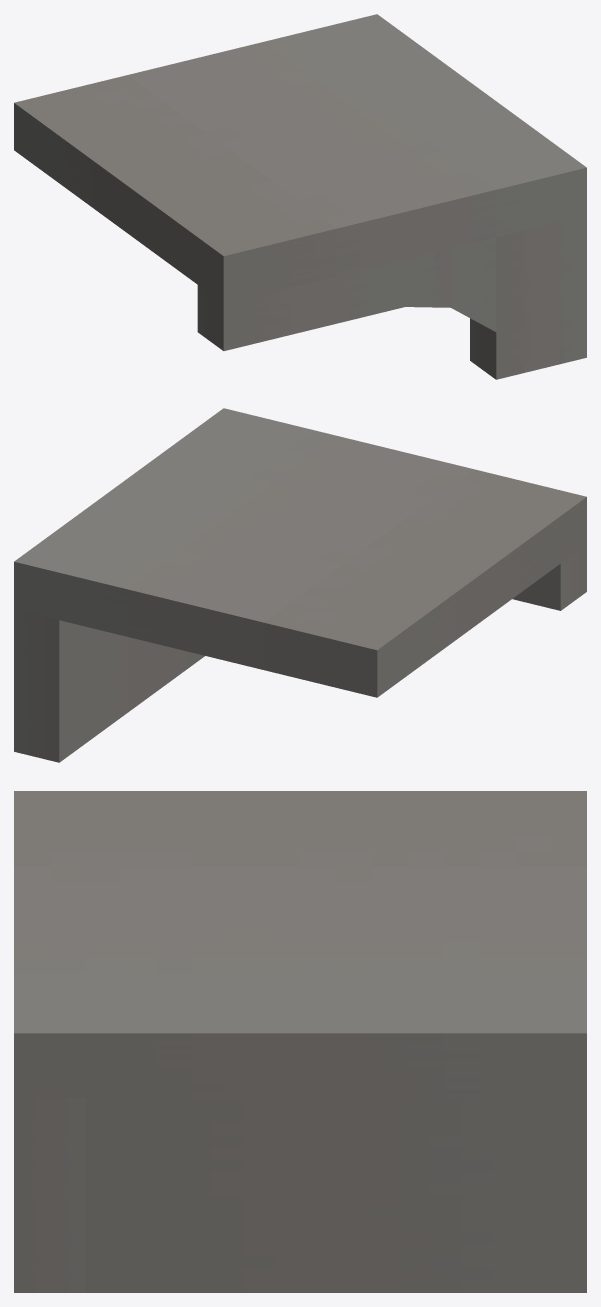
The model's file is WorkTable.obj.
The picture shows the model from 3 angles, top to bottom: view 1: azimuth 30°, elevation 25°; view 2: azimuth 150°, elevation 25°; view 3: azimuth 270°, elevation 25°; orthographic projection. The views are drawn at different scales.
Visible parts, largest first — view 1: Cube, Cube.002, Cube.003, Cube.004; view 2: Cube, Cube.001, Cube.003; view 3: Cube, Cube.001, Cube.002.
Boxes of the visible parts, box(x1,y1,x2,y2) form: Cube: box(14, 14, 586, 303); Cube.002: box(470, 215, 586, 379); Cube.003: box(197, 259, 405, 350); Cube.004: box(405, 237, 496, 331); Cube: box(14, 408, 586, 697); Cube.001: box(14, 609, 204, 762); Cube.003: box(512, 544, 586, 610); Cube: box(14, 791, 586, 1097); Cube.001: box(85, 1098, 586, 1292); Cube.002: box(14, 1098, 85, 1292).
Bounding box in the file's own units: 0.8 × 0.4 × 0.8.
